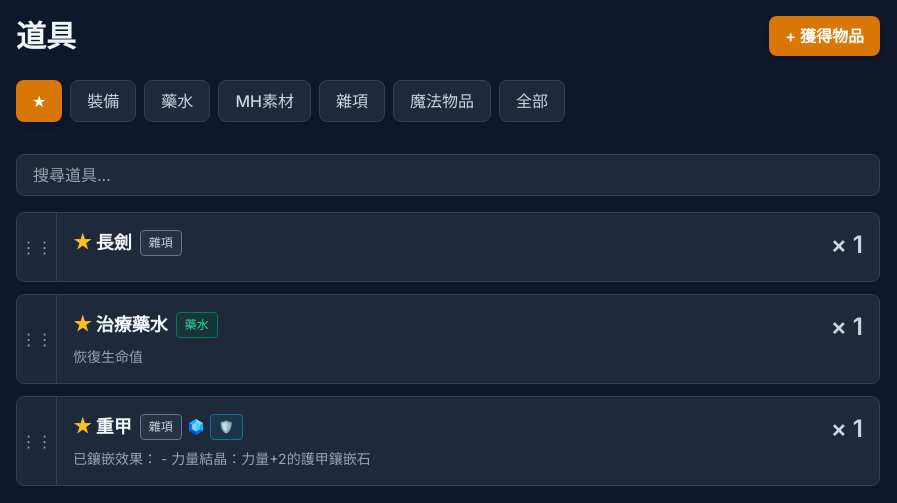
Test case: ItemsPage - 搜尋列 › 輸入效果說明關鍵字也能篩出符合的道具
Check: the heading "★ 治療藥水" is shown, box [73,311,168,339]
Type "恢復生命值" into the field with placeholder "搜尋道具..." at (448, 175), box [16,154,880,196]
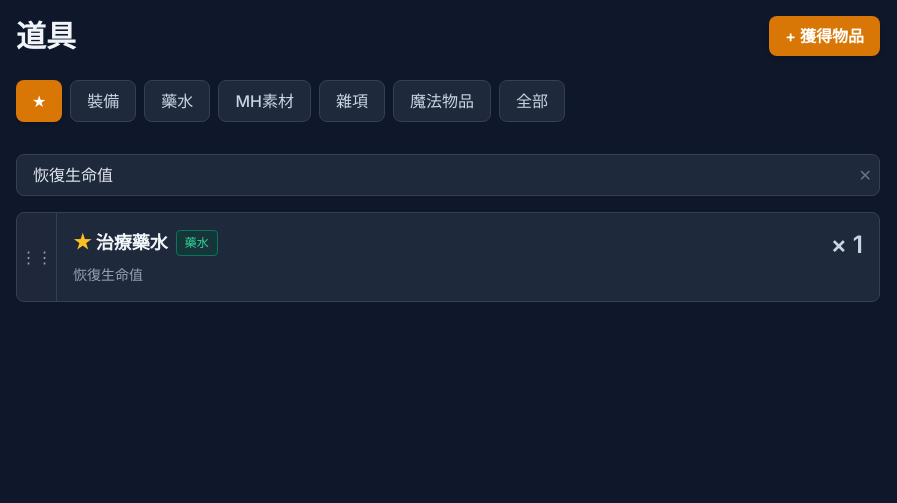
Check: the heading "★ 治療藥水" is shown, box [73,229,168,257]
Check: the button "長劍" is gone
